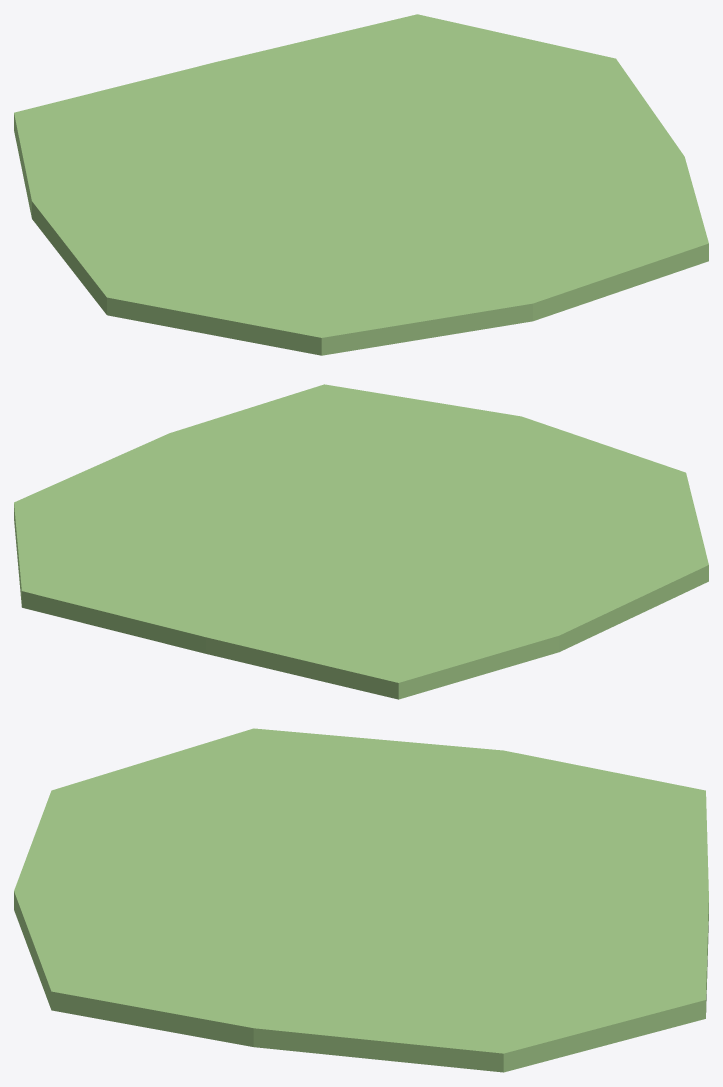
Rendered from TERRAIN1_EXTENSION.fbx.
3 renders of one model, top to bottom at view 1: azimuth 30°, elevation 25°; view 2: azimuth 150°, elevation 25°; view 3: azimuth 270°, elevation 25°, orthographic. The views are drawn at different scales.
Visible parts, largest first — view 1: Cylinder; view 2: Cylinder; view 3: Cylinder.
Part boxes in pixels (x1,y1,x2,y2): Cylinder: [14, 14, 708, 355]; Cylinder: [14, 384, 708, 699]; Cylinder: [14, 728, 708, 1072].
Bounding box in the file's own units: 2469 × 67.01 × 2230.
